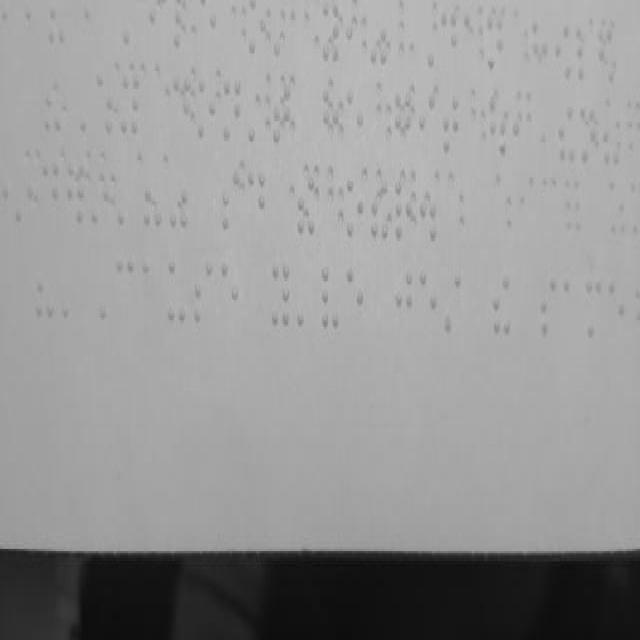braiile: (340, 167, 366, 242), (392, 260, 416, 340), (140, 250, 163, 332), (113, 252, 137, 330), (485, 7, 507, 92), (318, 258, 342, 334), (268, 258, 292, 334), (218, 252, 240, 334), (438, 1, 460, 83), (220, 164, 242, 245), (192, 255, 215, 332), (118, 66, 142, 138), (319, 2, 343, 74), (344, 261, 366, 339), (582, 268, 604, 346), (166, 255, 188, 332), (420, 260, 440, 344), (272, 76, 292, 160), (392, 89, 414, 164), (392, 172, 414, 246), (343, 88, 365, 162), (441, 91, 462, 167), (577, 98, 599, 169), (320, 83, 340, 161), (246, 164, 266, 240), (418, 86, 437, 166), (196, 74, 217, 144), (574, 17, 594, 90), (606, 271, 626, 342), (41, 158, 61, 229), (540, 269, 558, 340), (222, 76, 240, 146), (562, 270, 580, 339)
